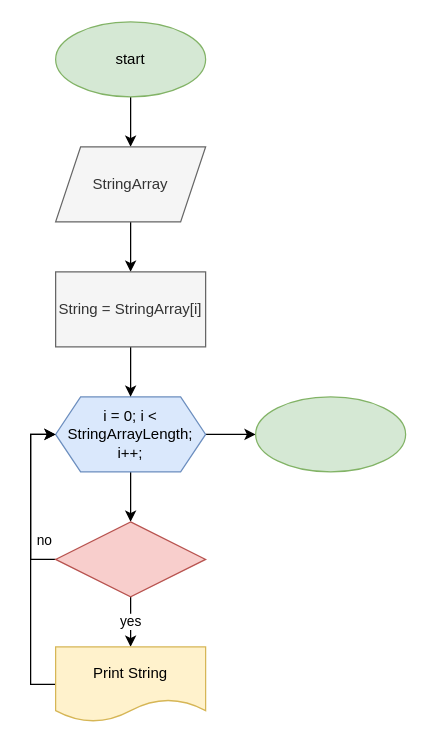
The diagram is 428 pixels wide and 744 high, and some of its shapes have lost their labels. Each missing label, with the centre of its shape:
end: the point at 330,434
String <= 3: the point at 130,559
